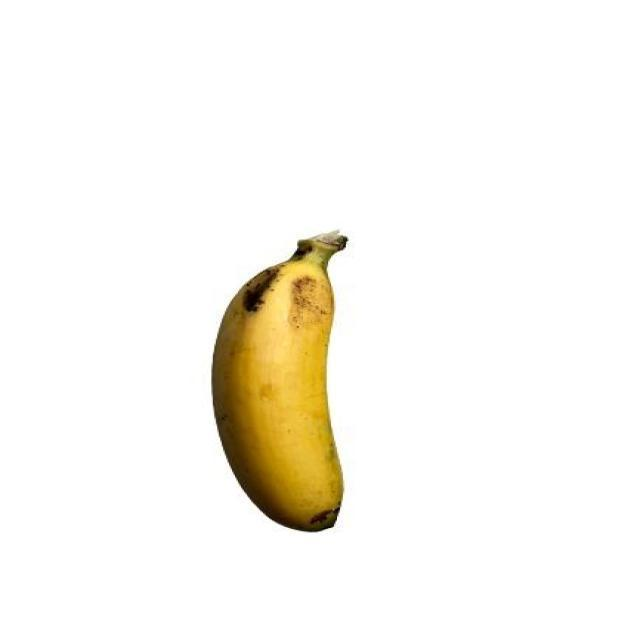Banana: (204, 222, 358, 542)
